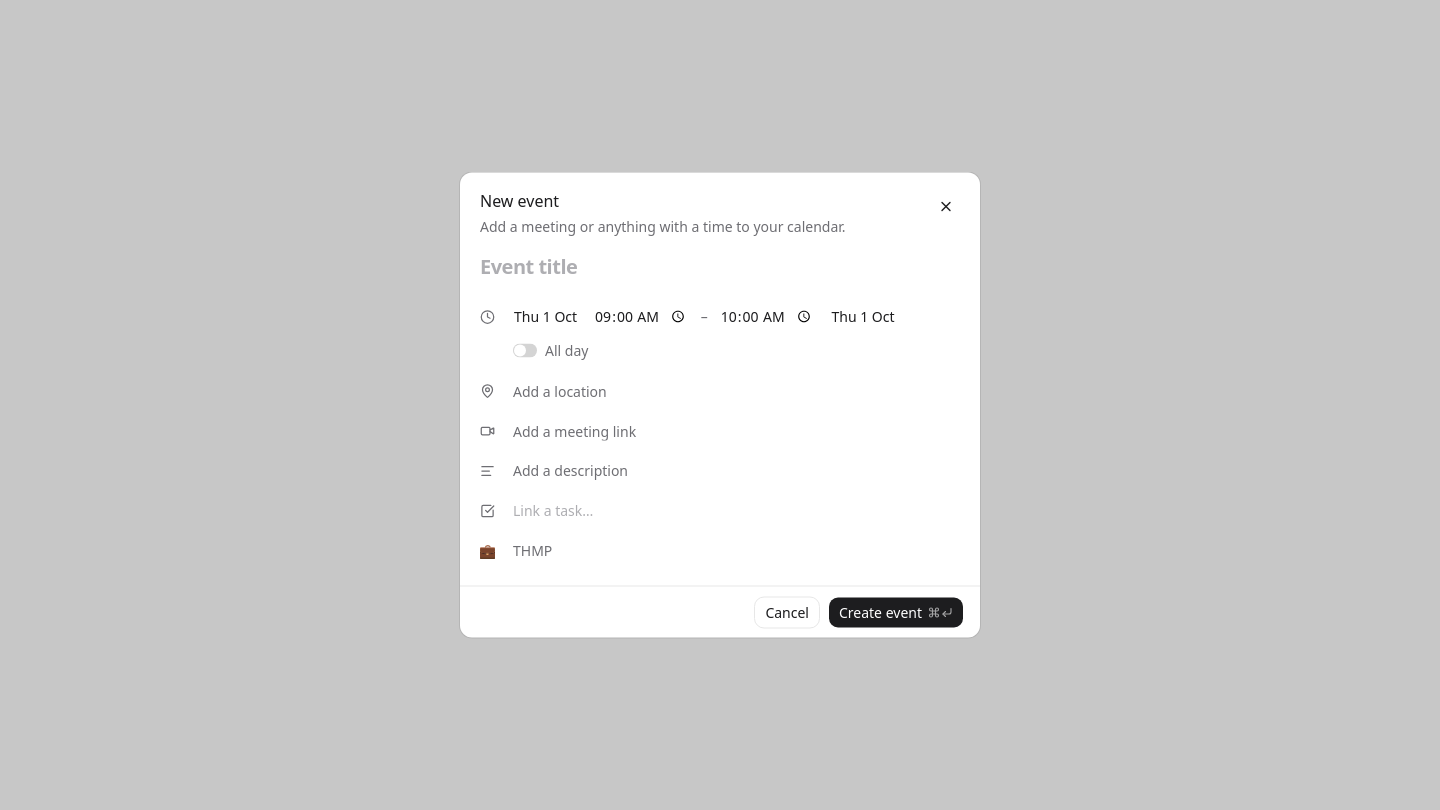
Test: EventDialog (standalone) › requires a title
The image size is (1440, 810).
Step 1. Click the button "Create event" → {"x": 896, "y": 612}, box [828,596,964,628]
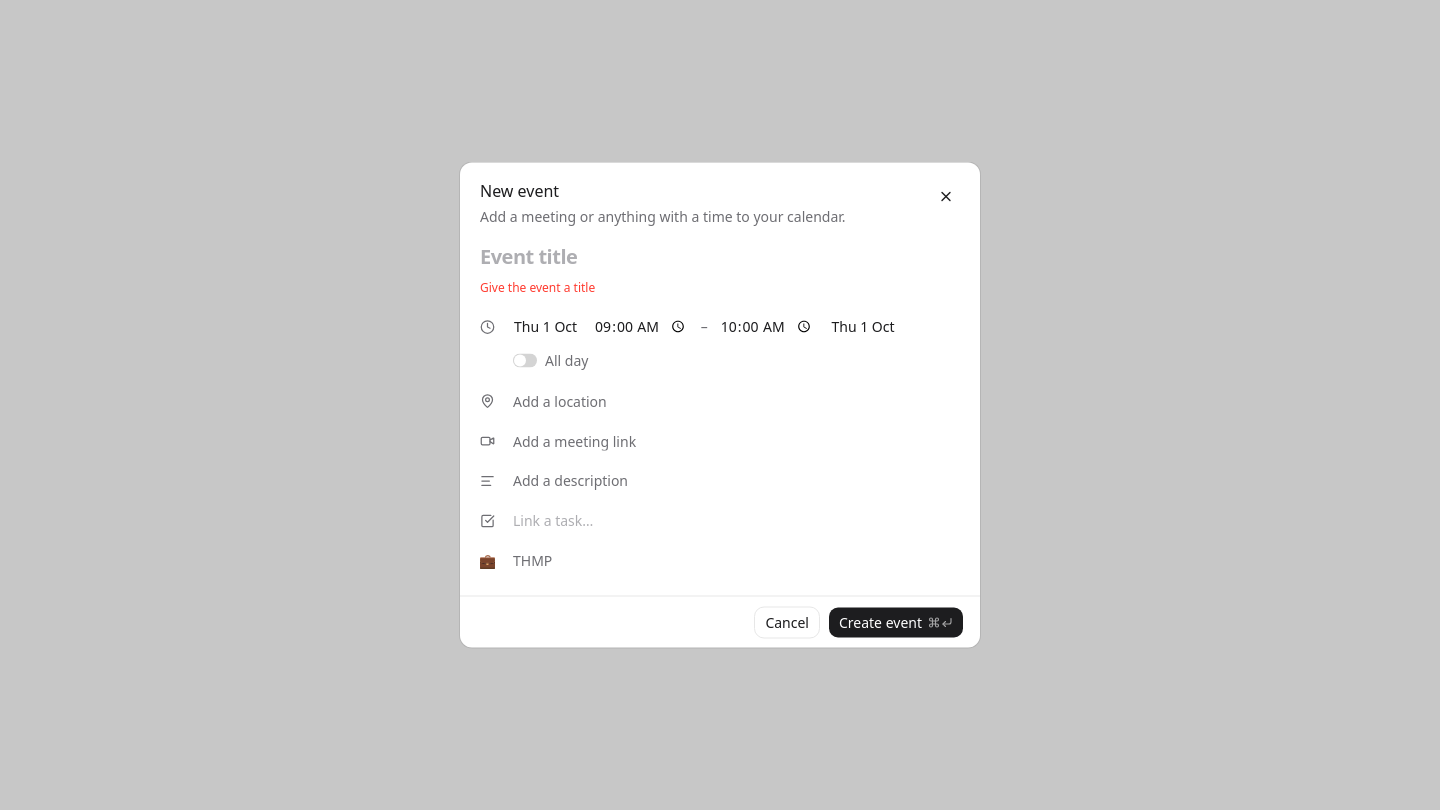
Expected: the text "Give the event a title" is shown, [480,278,595,296]
